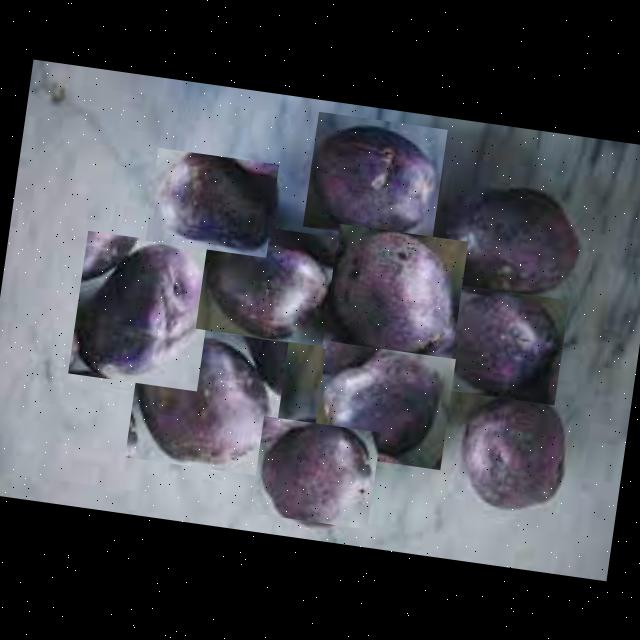Damaged potato: (125, 322, 289, 478), (68, 230, 217, 392), (303, 112, 448, 245), (195, 220, 338, 346)
Defected potato: (322, 224, 468, 366), (432, 175, 588, 306), (312, 341, 456, 470), (452, 384, 579, 521), (436, 284, 570, 406), (250, 416, 380, 530), (146, 148, 280, 258)
